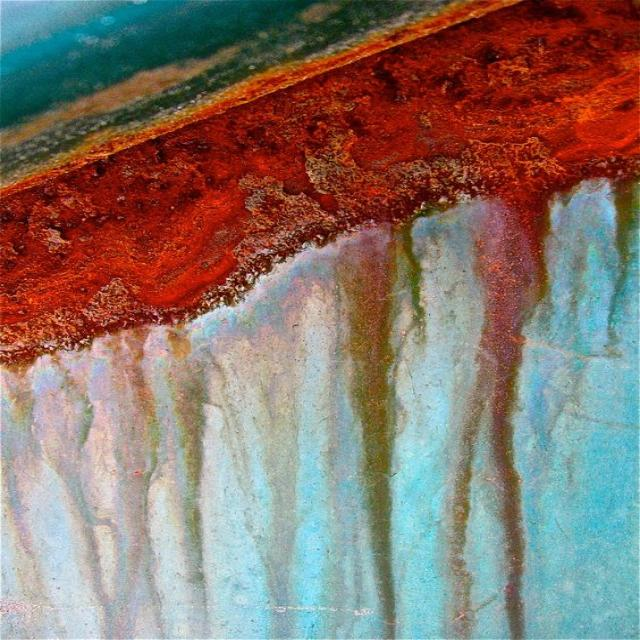Crevice Corrosion: (0, 0, 639, 633)
